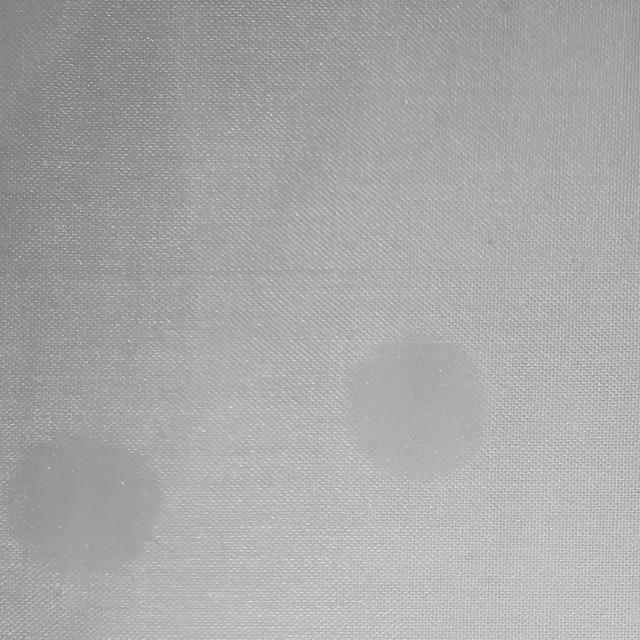Thread_other: (266, 269, 568, 539), (0, 317, 240, 640)
